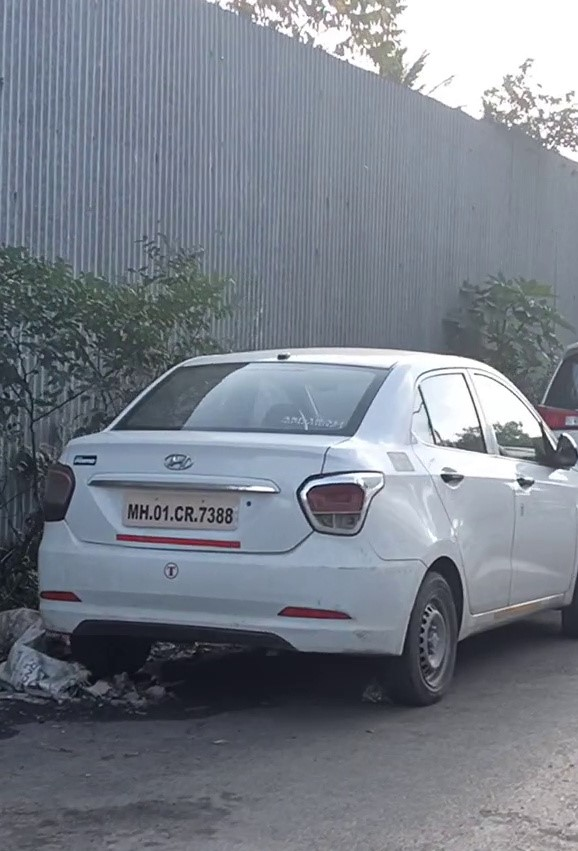MH01CR7388: (122, 488, 238, 530)
